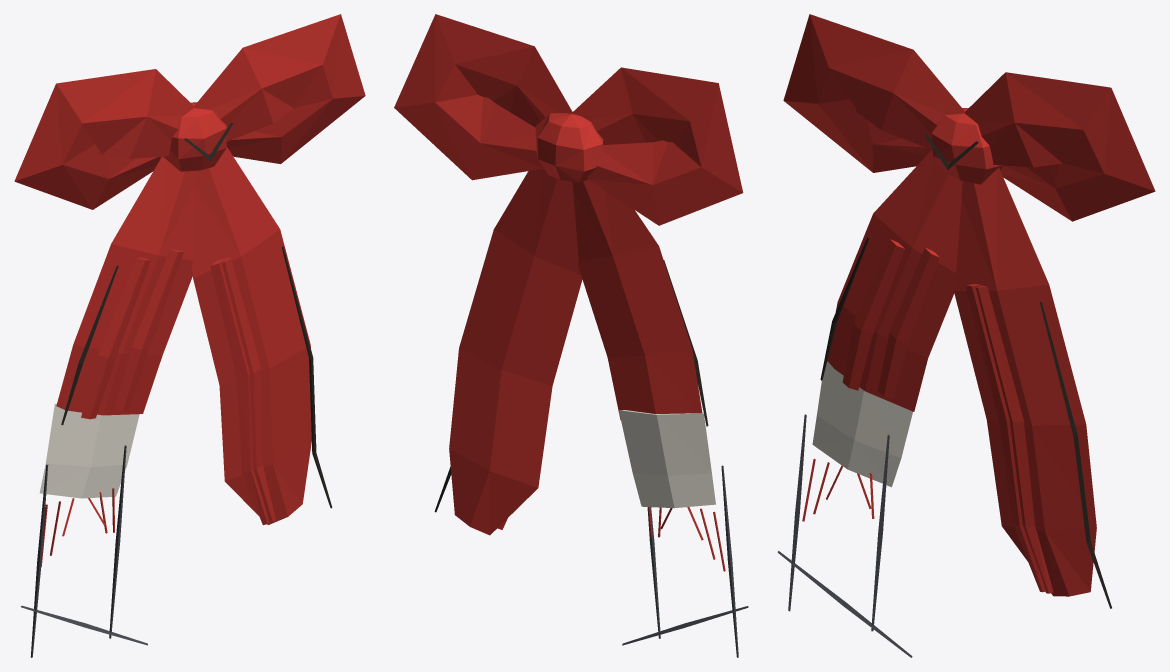
File: RedCord.fbx
3 renders of one model, left to right at view 1: azimuth 30°, elevation 25°; view 2: azimuth 150°, elevation 25°; view 3: azimuth 330°, elevation 25°, orthographic. The views are drawn at different scales.
Visible parts, largest first — view 1: Cord, Lines; view 2: Cord, Lines; view 3: Cord, Lines.
Part boxes in pixels (<box>): Cord: <box>14,14,365,525</box>; Lines: <box>21,122,332,657</box>; Cord: <box>394,14,743,535</box>; Lines: <box>434,260,748,657</box>; Cord: <box>783,14,1155,596</box>; Lines: <box>777,134,1111,657</box>.
Size of the model in its own units: 0.1828 by 0.2916 by 0.03.
